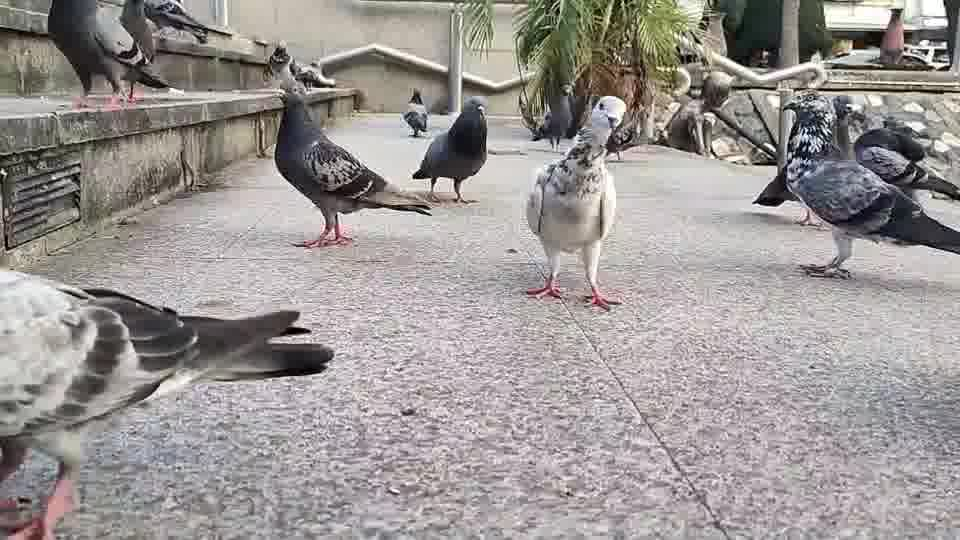Pigeon: (0, 267, 334, 538), (779, 91, 958, 280), (271, 88, 432, 248), (523, 95, 627, 310), (46, 0, 184, 110), (751, 91, 849, 228), (411, 95, 489, 204), (852, 125, 959, 202), (142, 0, 232, 44), (590, 94, 640, 161), (399, 87, 429, 137)
